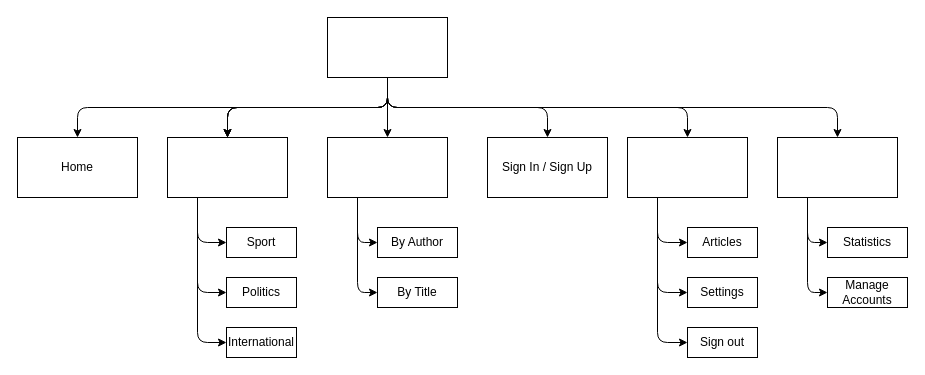
Image size: 925x375. Some labels were removed from this diagram. The shapes that lost their labels are listed below. From the top down, each one's centre as x and y in pixels, then its label:
the point at 387,47: L'IMTox
the point at 227,167: Categories
the point at 387,167: Search
the point at 687,167: My Account
the point at 837,167: Admin
